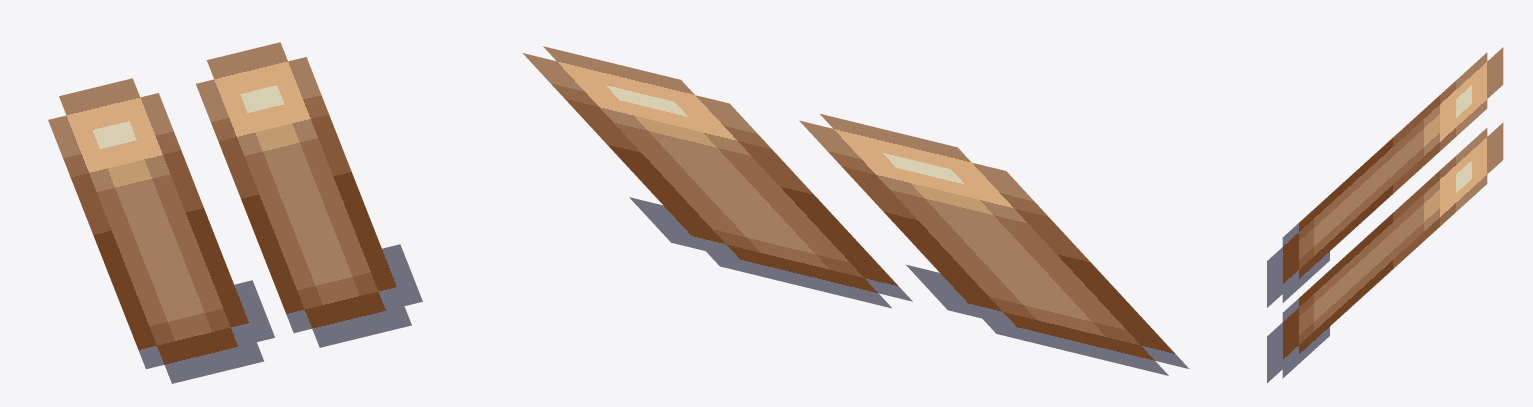
3 renders of one model, left to right at view 1: azimuth 30°, elevation 25°; view 2: azimuth 150°, elevation 25°; view 3: azimuth 270°, elevation 25°, orthographic. The views are drawn at different scales.
Size of the model in its own units: 1 by 0.707 by 0.707.
1 material, 1 textured.
